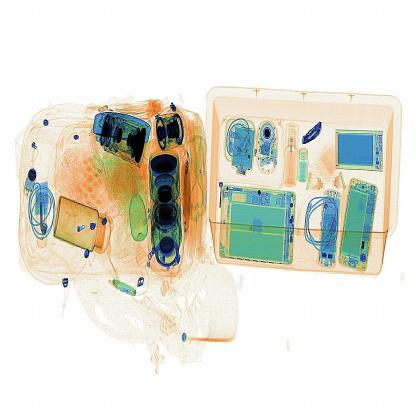knife: (297, 116, 330, 149)
